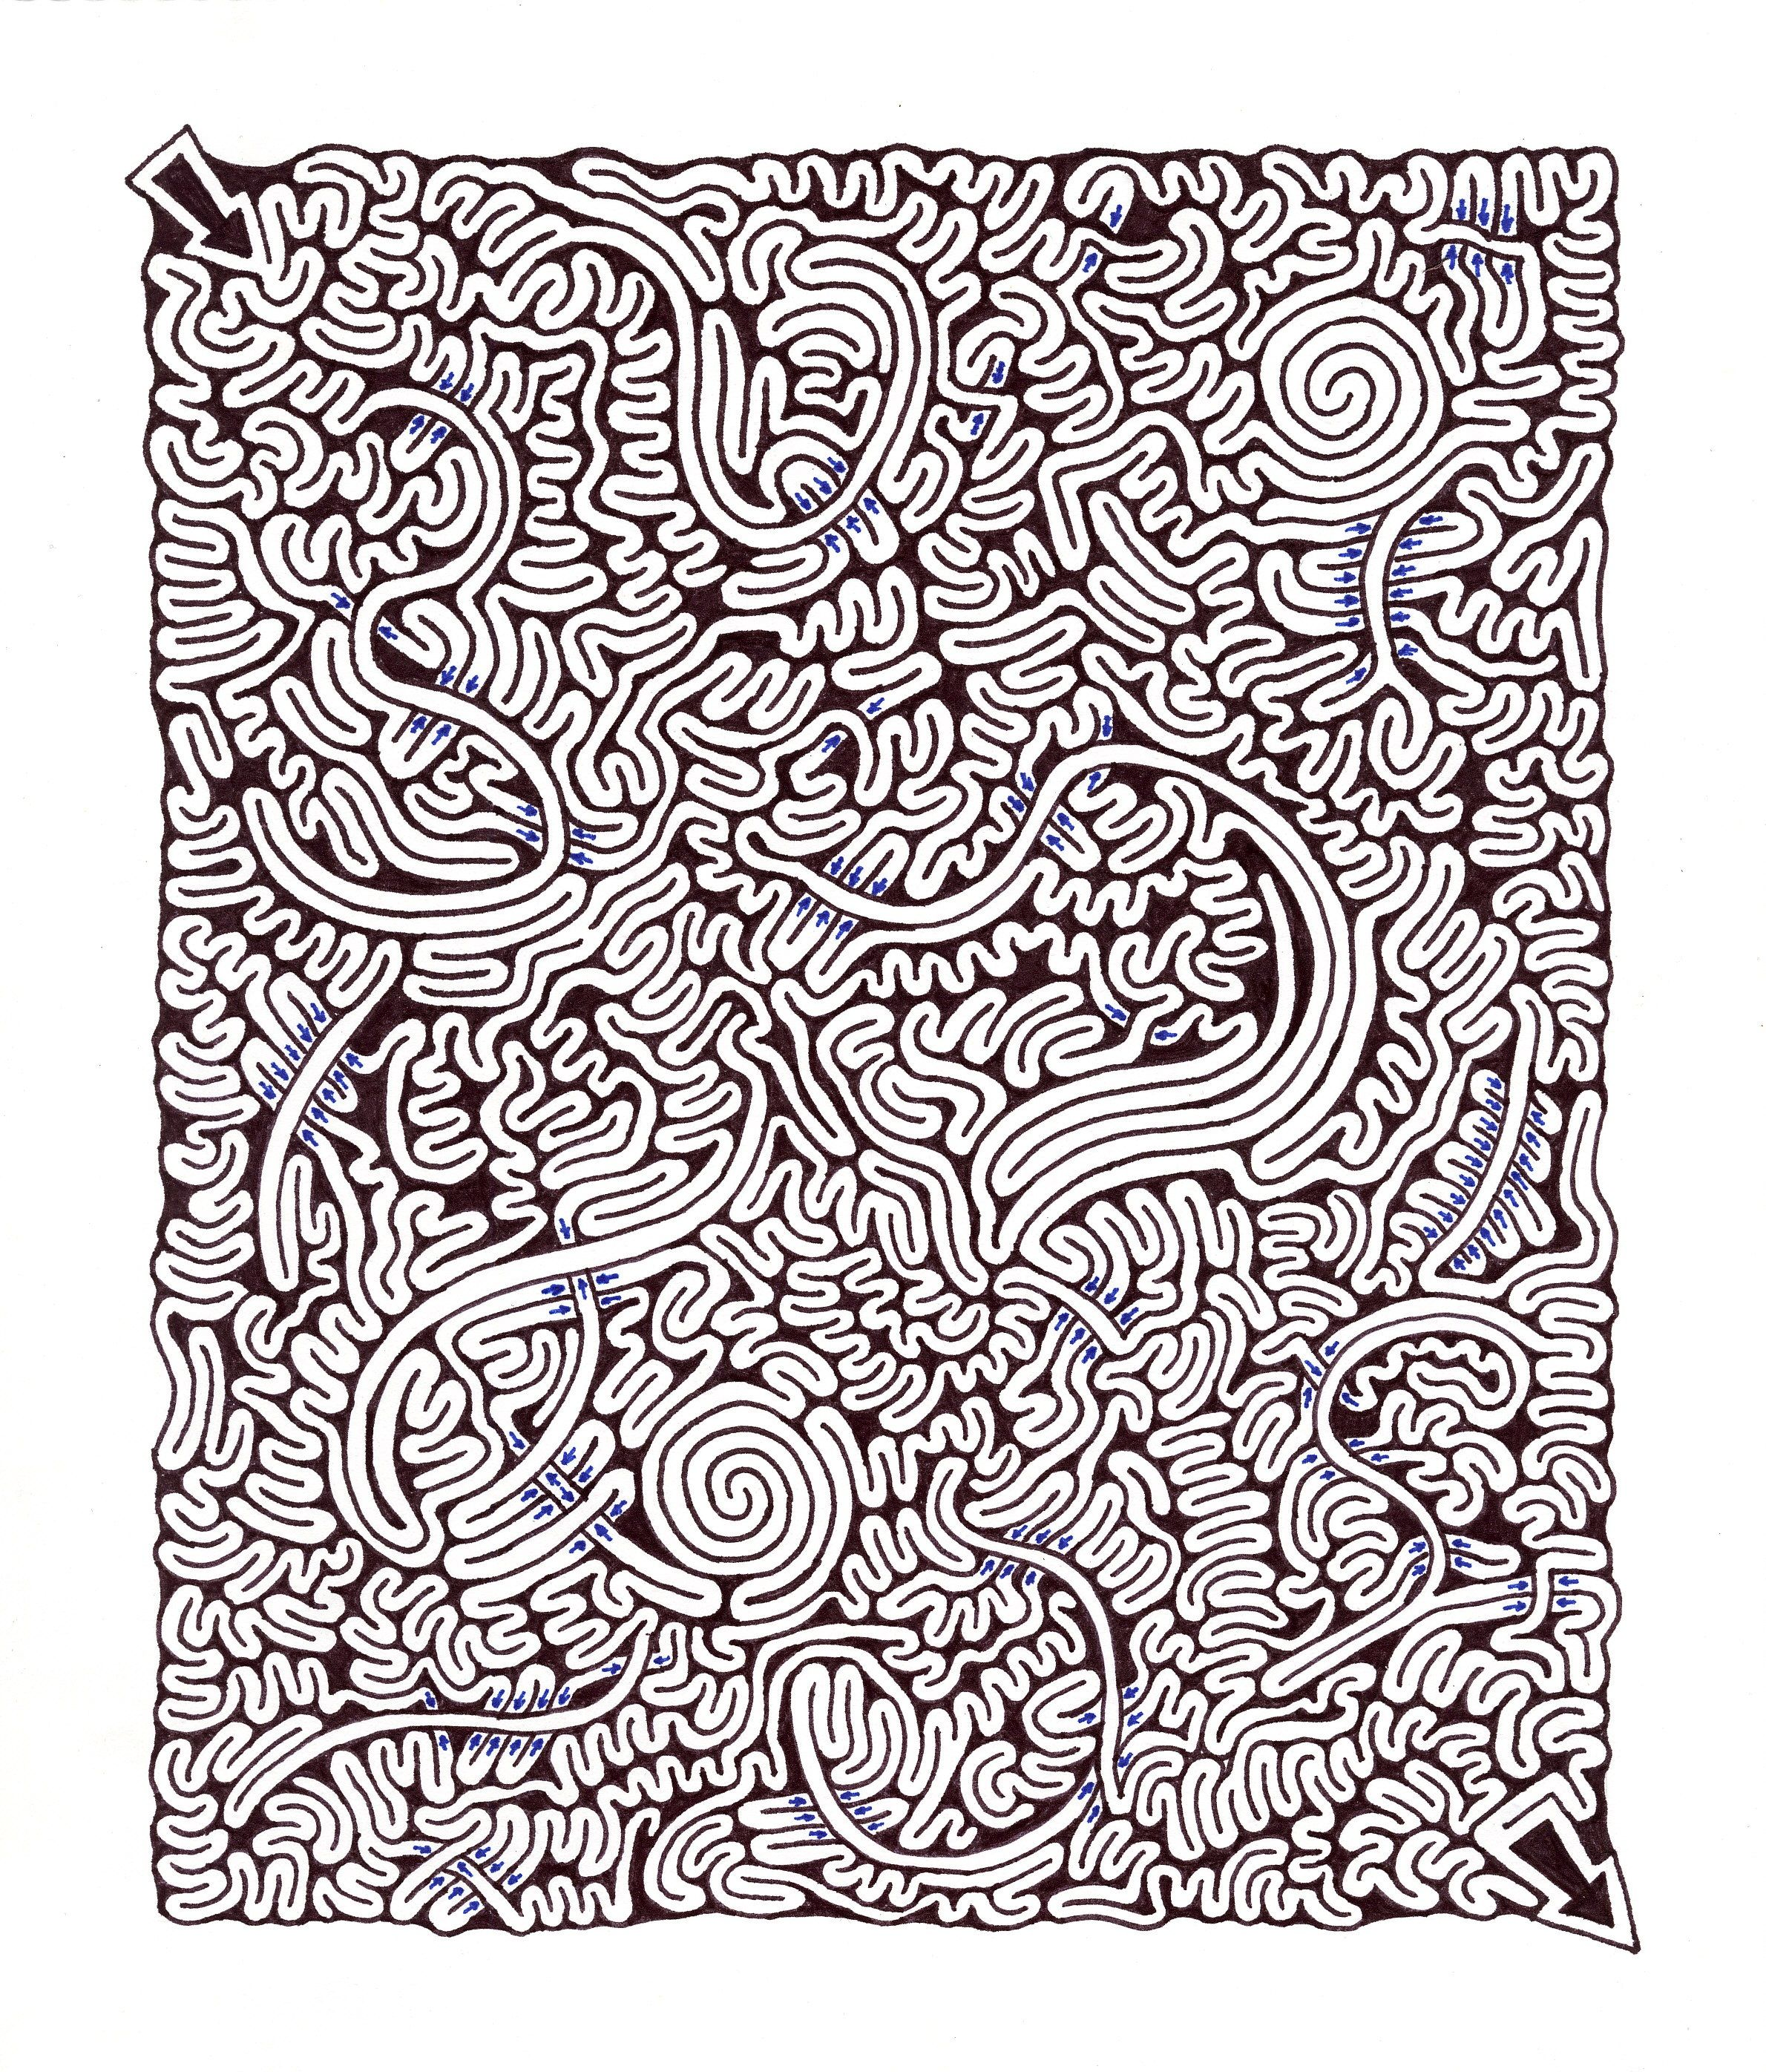maze: (135, 145, 1626, 1935)
